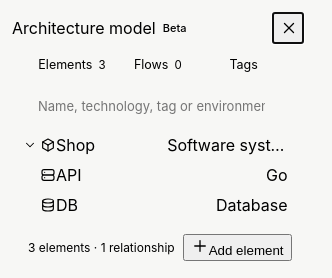
it: V2ModelPanel outline and card › filters the outline and keeps the ancestors of a match
Type "go" into the search field named "Search architecture" at (158, 106), box [28, 90, 288, 122]
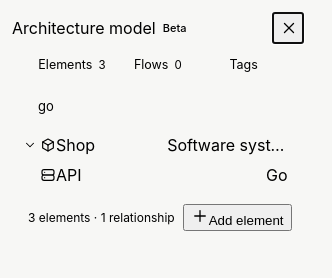
Expected: the list item "Shop Software system" is shown, [20, 130, 296, 160]
Now the text "DB" is gone
